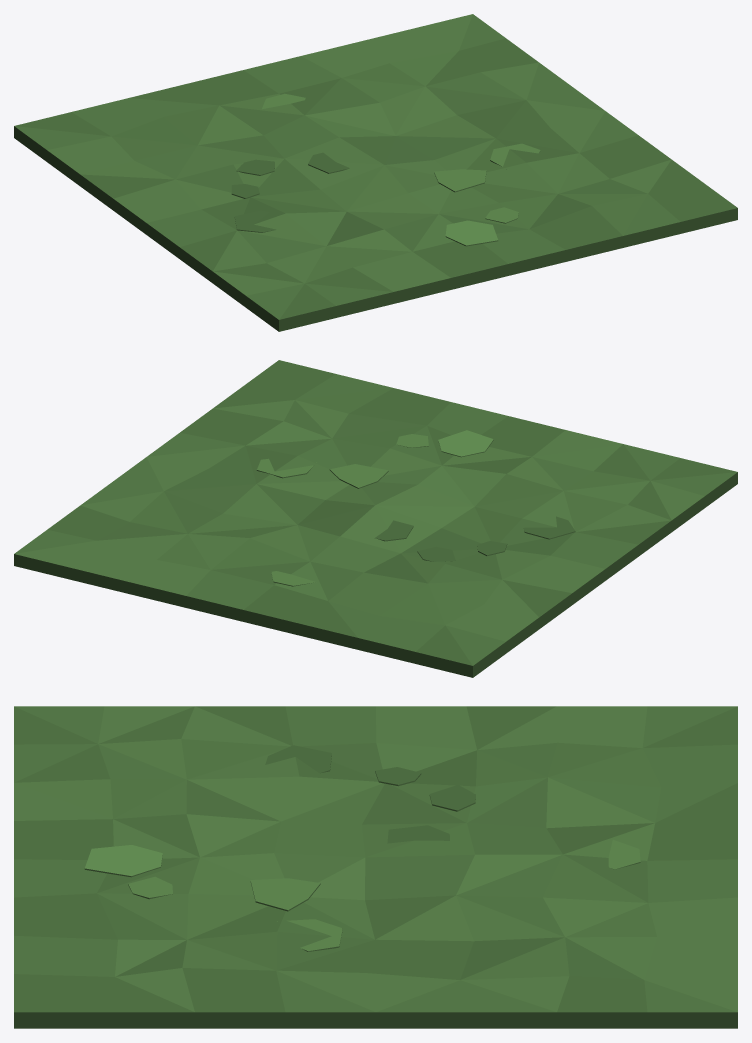
File: ground_grass_a.obj
3 renders of one model, top to bottom at view 1: azimuth 30°, elevation 25°; view 2: azimuth 150°, elevation 25°; view 3: azimuth 270°, elevation 25°, orthographic. The views are drawn at different scales.
Size of the model in its own units: 4 by 0.1307 by 4.
